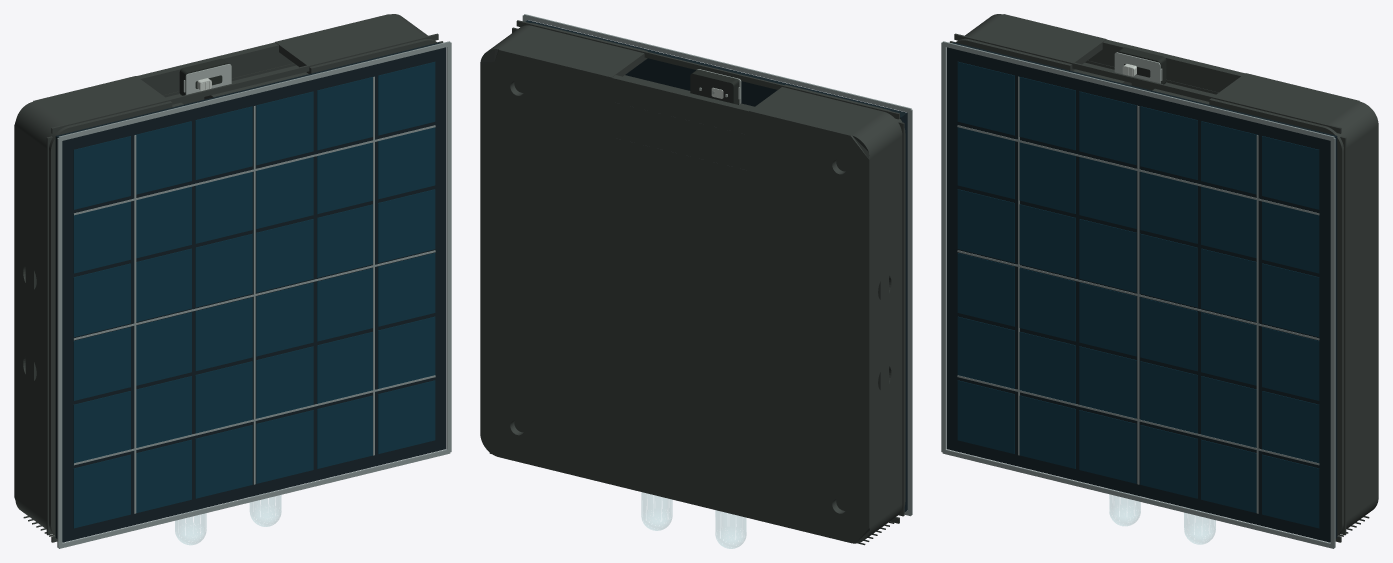
Rendered from flashlight-assembly.glb.
3 renders of one model, left to right at view 1: azimuth 30°, elevation 25°; view 2: azimuth 150°, elevation 25°; view 3: azimuth 330°, elevation 25°, orthographic.
Visible parts, largest first — view 1: solar_lid, enclosure, led_pair, switch; view 2: enclosure, solar_lid, led_pair, switch; view 3: solar_lid, enclosure, led_pair, switch.
Boxes of the visible parts, bbox=[...] form: solar_lid: bbox=[55, 41, 451, 548]; enclosure: bbox=[14, 14, 443, 542]; led_pair: bbox=[175, 495, 281, 544]; switch: bbox=[179, 58, 231, 95]; enclosure: bbox=[480, 20, 905, 545]; solar_lid: bbox=[522, 14, 912, 516]; led_pair: bbox=[641, 492, 746, 548]; switch: bbox=[690, 69, 741, 104]; solar_lid: bbox=[941, 41, 1337, 548]; enclosure: bbox=[949, 14, 1378, 542]; led_pair: bbox=[1109, 495, 1215, 544]; switch: bbox=[1114, 47, 1166, 84].
Size of the model in its own units: 0.0845 by 0.0966 by 0.0162.
